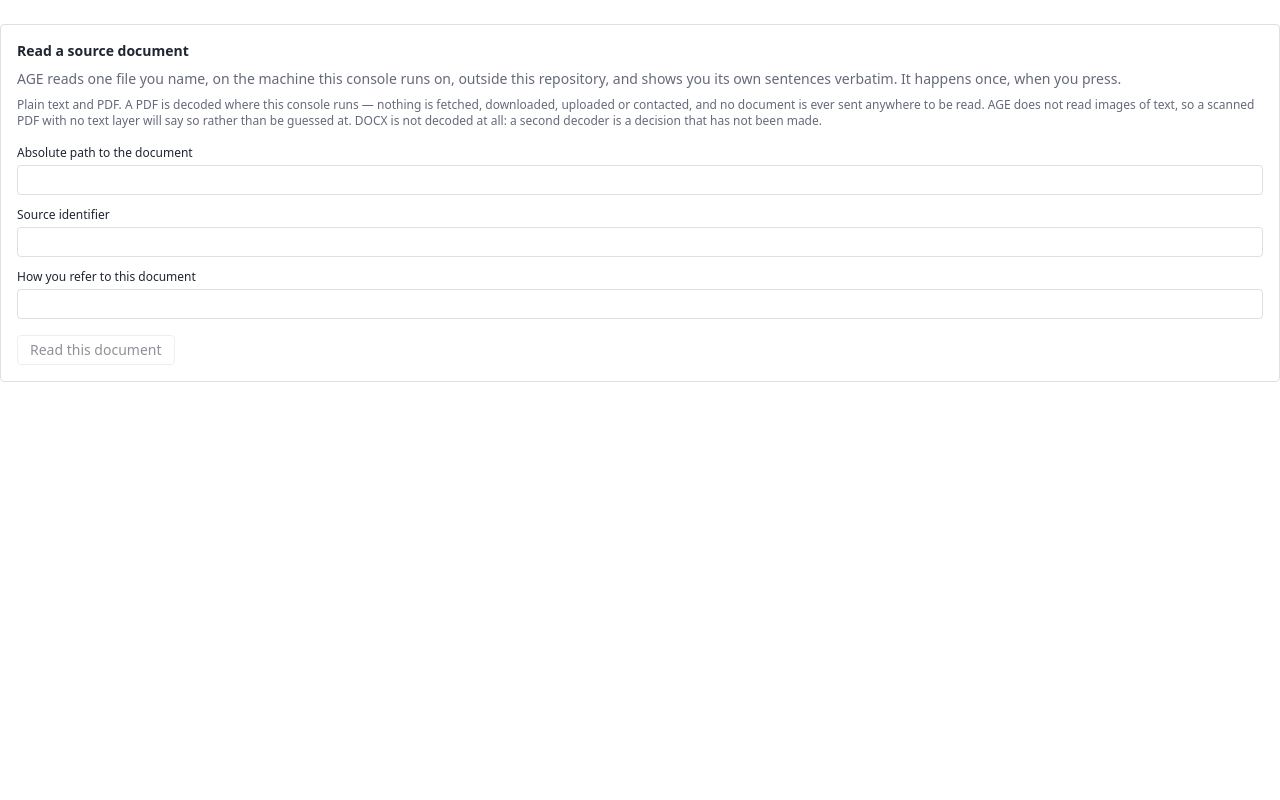
Scenario: SourcesPanel › will not record until a named human has said who confirmed it
Type "E:/fictional-operator-files/brief.txt" into the field labelled "Absolute path to the document".
click(640, 180); type("E:/fictional-operator-files/brief.txt")  # box [17,165,1263,195]
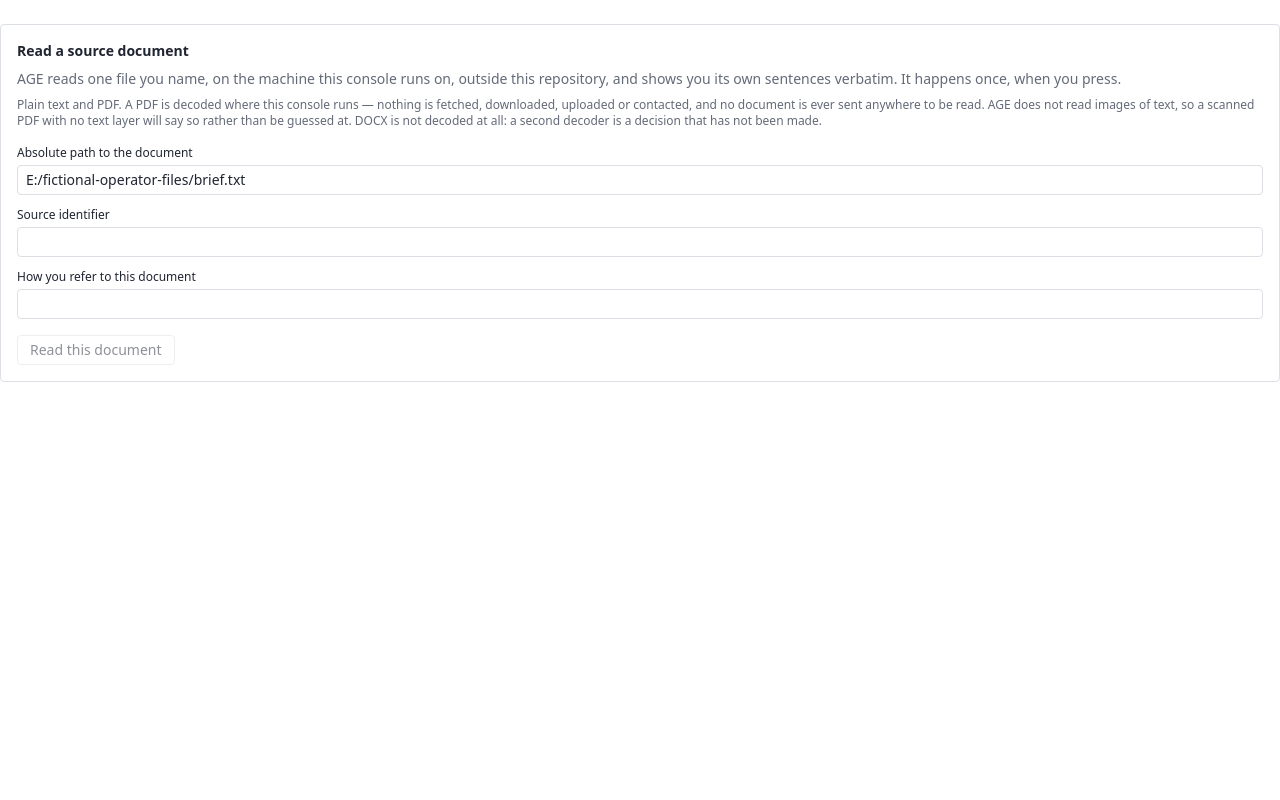
Type "src-fictional-brief" into the field labelled "Source identifier".
click(640, 242); type("src-fictional-brief")  # box [17,227,1263,257]
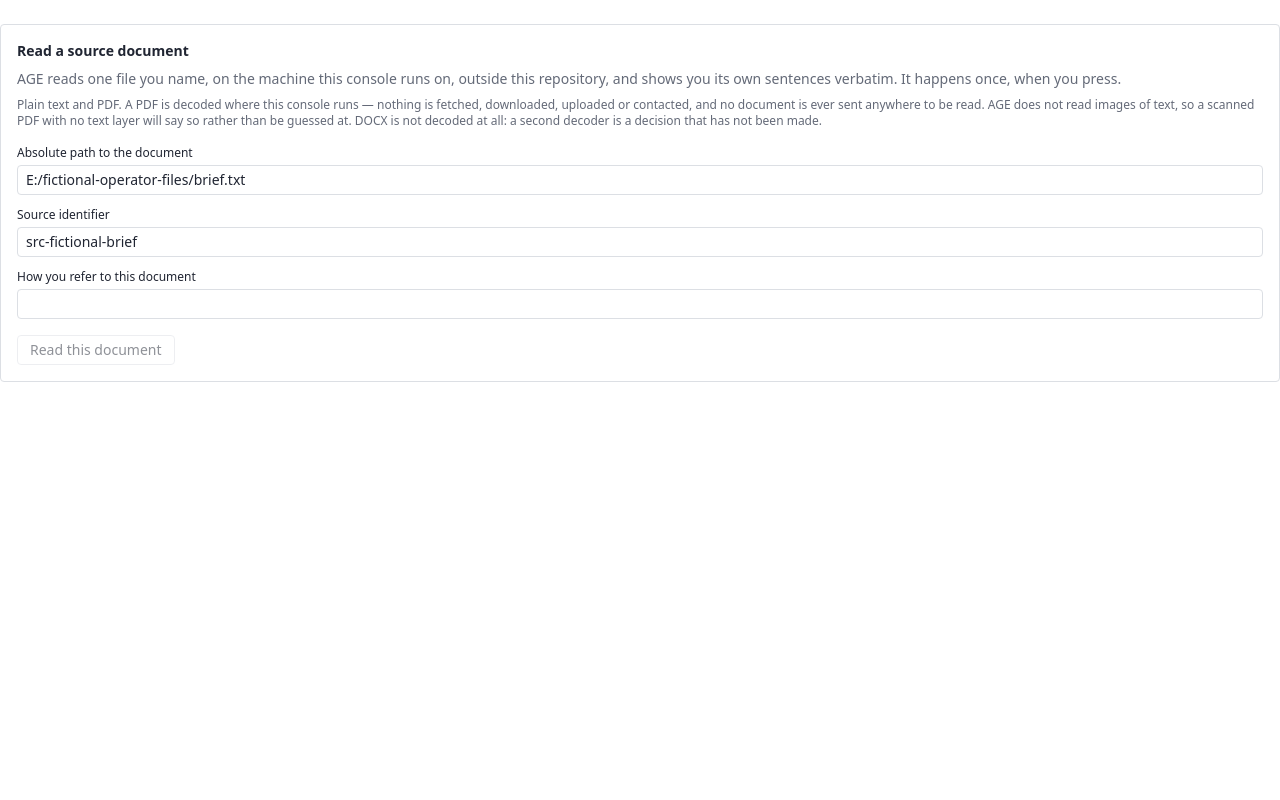
Type "Fictional Kite Repairs brief" into the field labelled "How you refer to this document".
click(640, 304); type("Fictional Kite Repairs brief")  # box [17,289,1263,319]
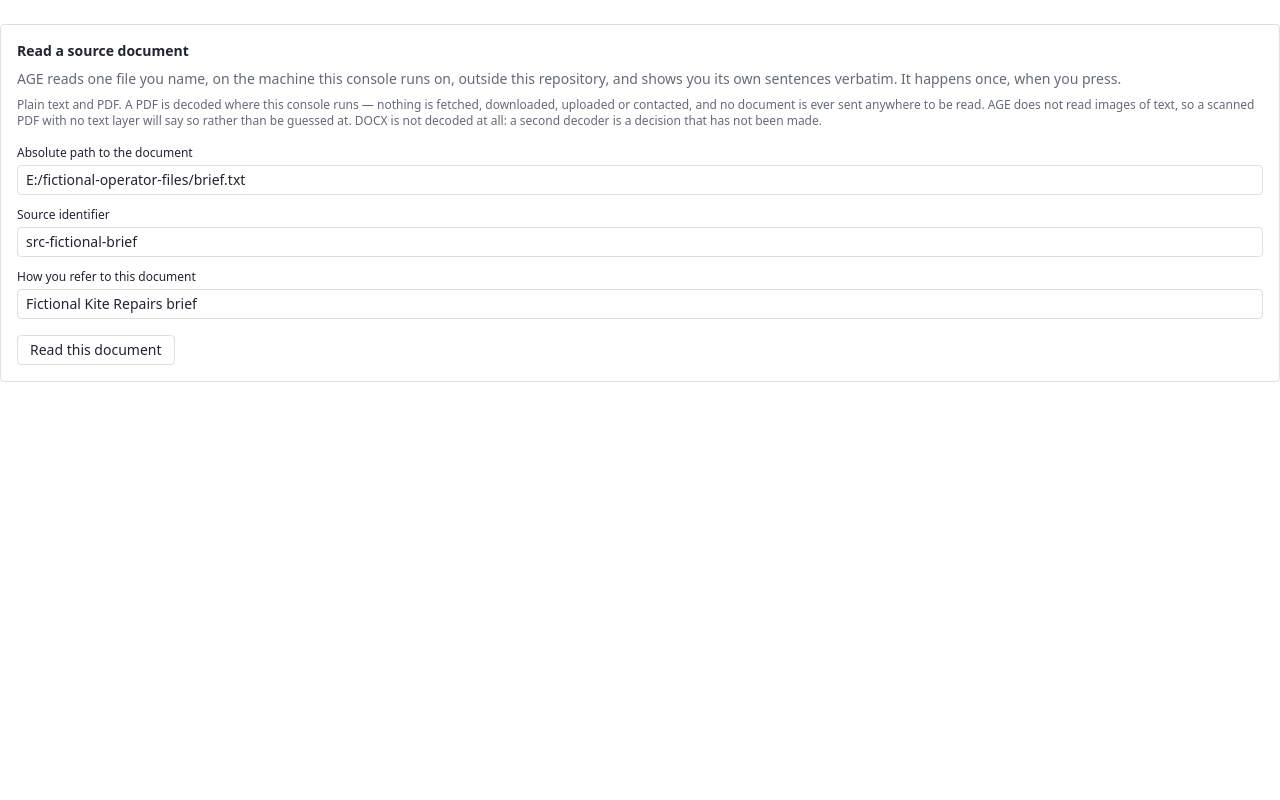
Click the button "Read this document".
click(96, 350)  # box [17,335,174,365]
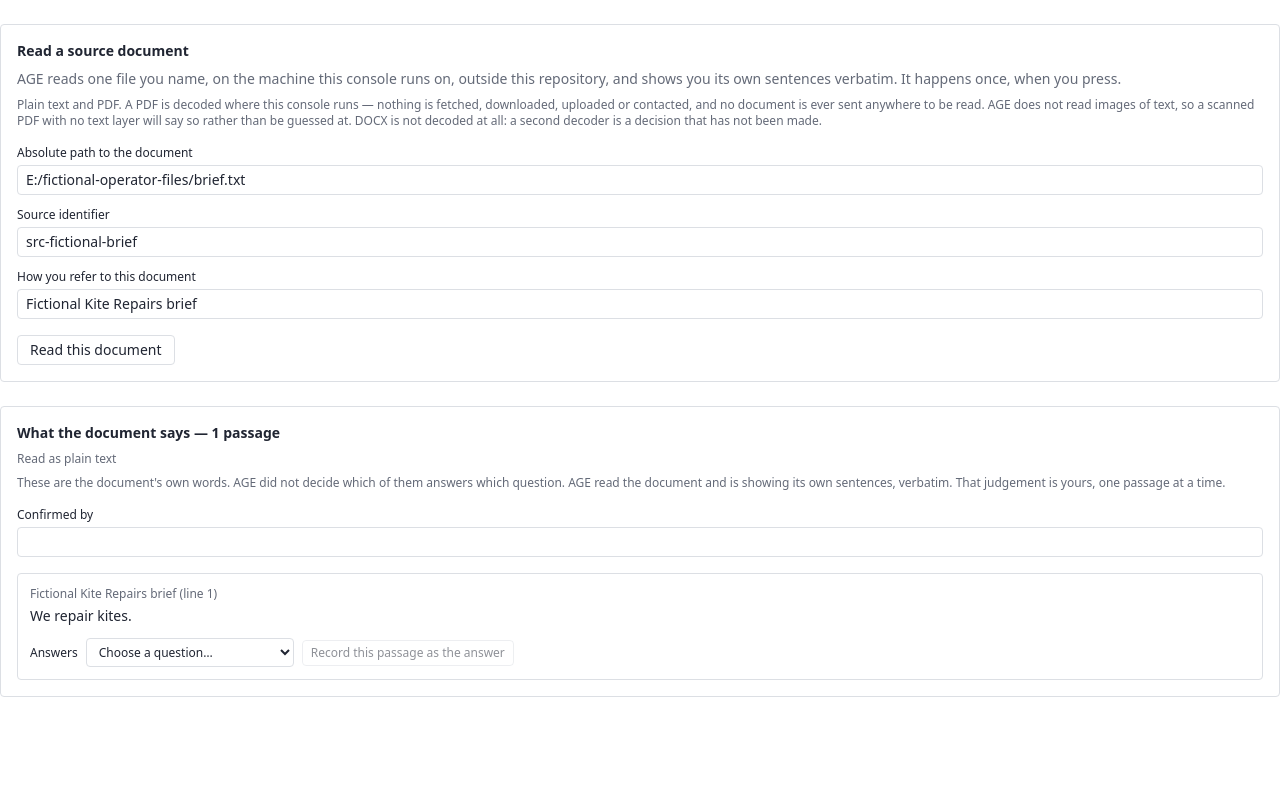
Expected: the text "We repair kites." is shown, [30,606,132,625]
Select "What does the business offer?" in the dropdown labelled "Answers" at (190, 652), box [86,638,294,667]
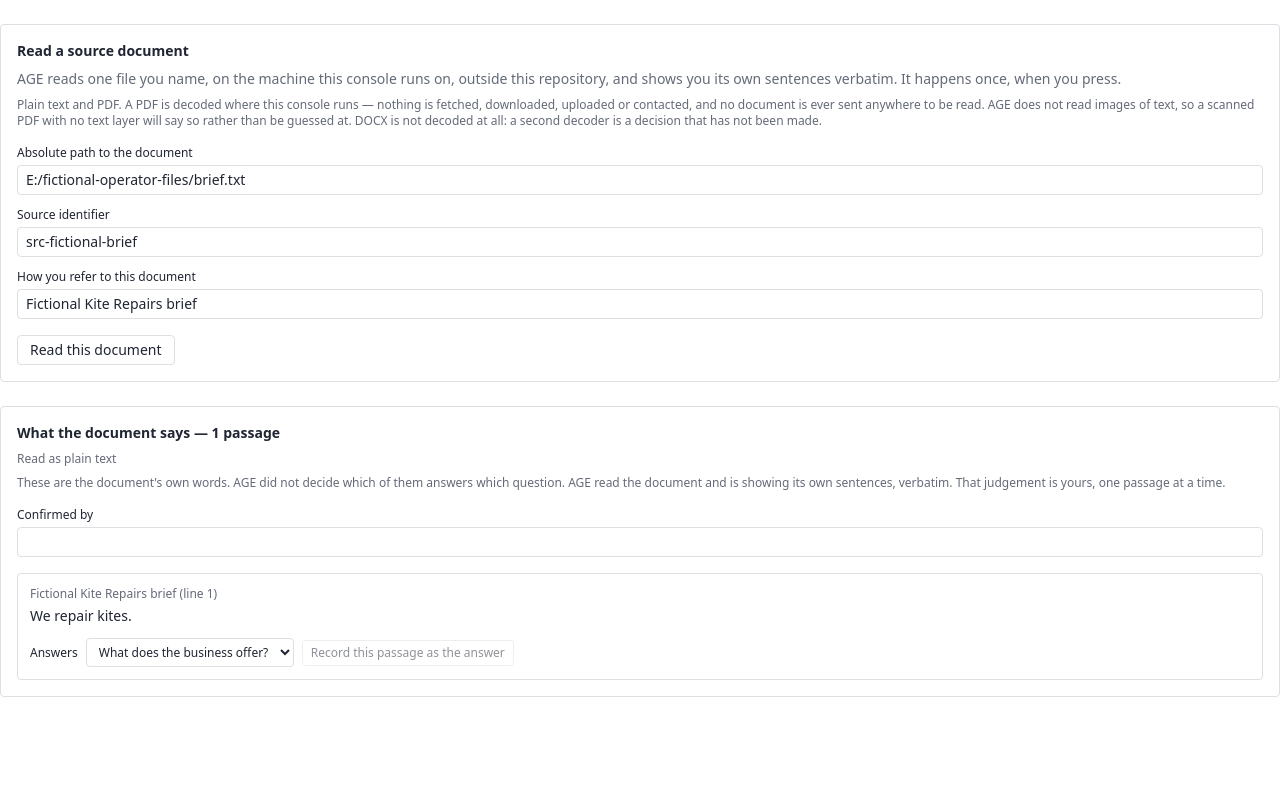
Expected: the button "Record this passage as the answer" is disabled, [302,640,514,666]
Type "operator:fictional" into the field labelled "Confirmed by".
click(640, 542); type("operator:fictional")  # box [17,527,1263,557]
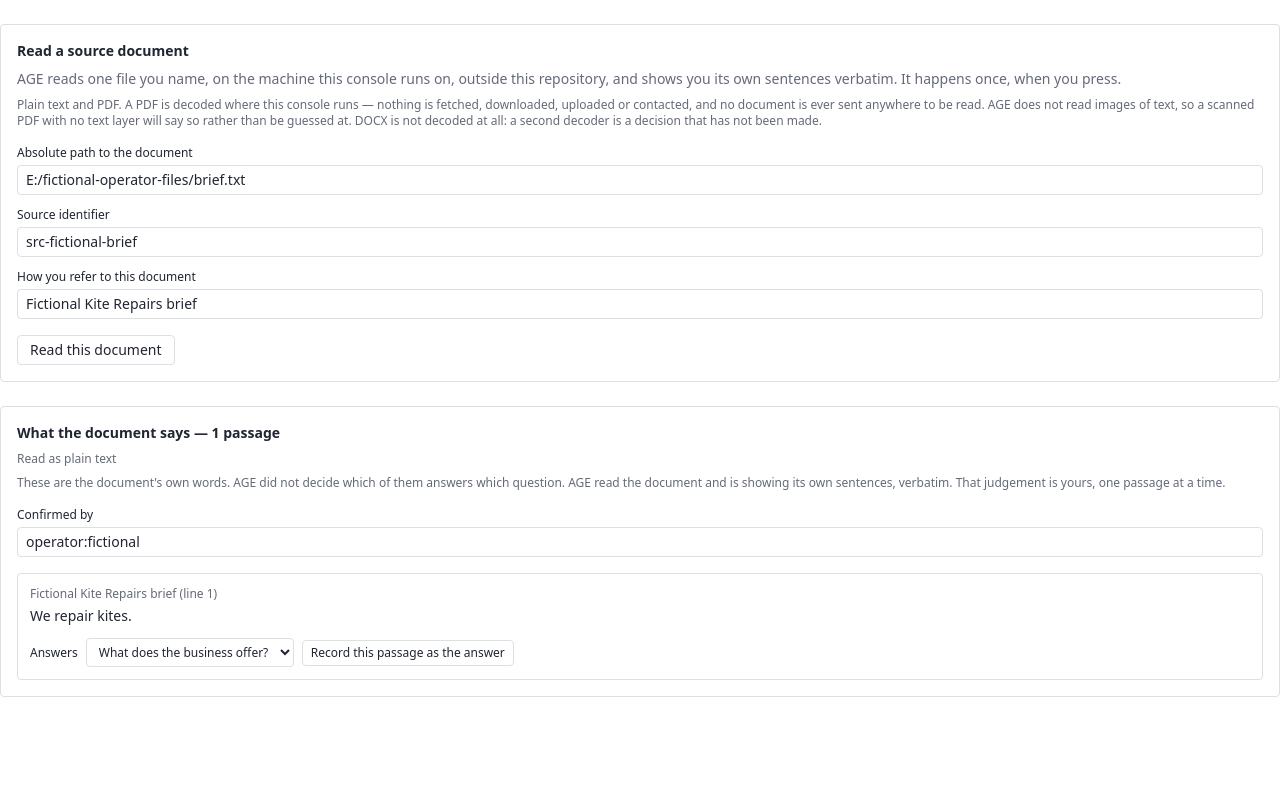
Expected: the button "Record this passage as the answer" is enabled, [302,640,514,666]
